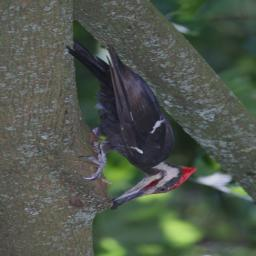Woodpecker: (66, 38, 199, 208)
